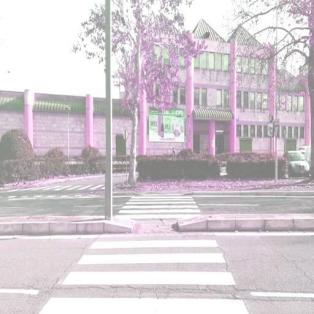Paso de Cebra: (60, 249, 239, 291), (117, 204, 203, 214)
